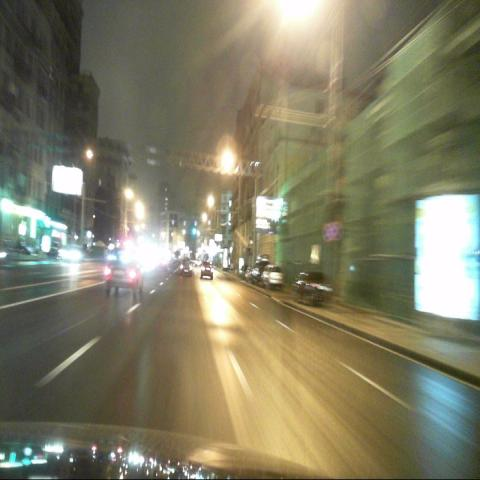3_27: (323, 222, 334, 242)
